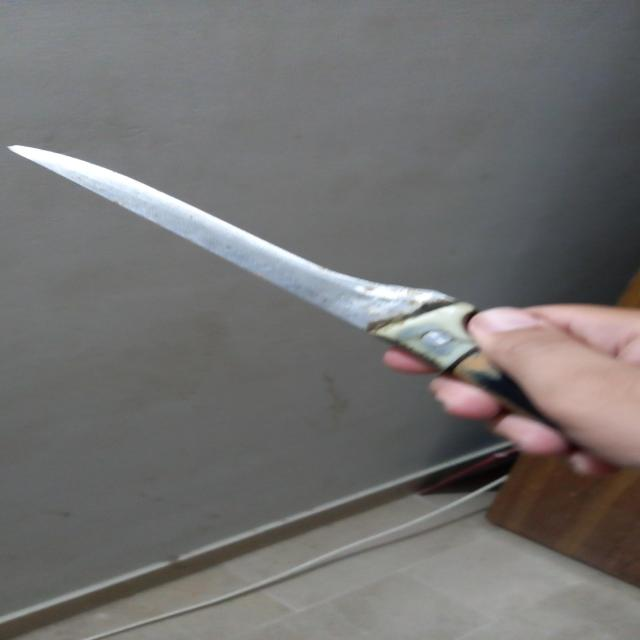Knife: (11, 144, 592, 445)
Person: (383, 302, 640, 478)
